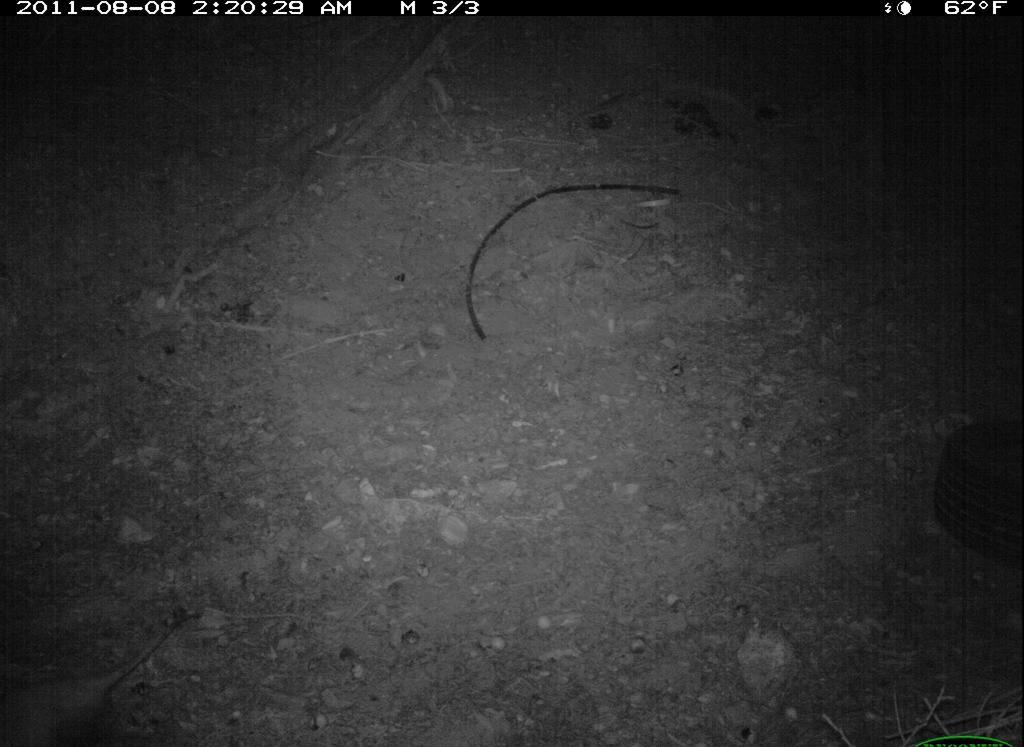opossum: (2, 602, 219, 747)
